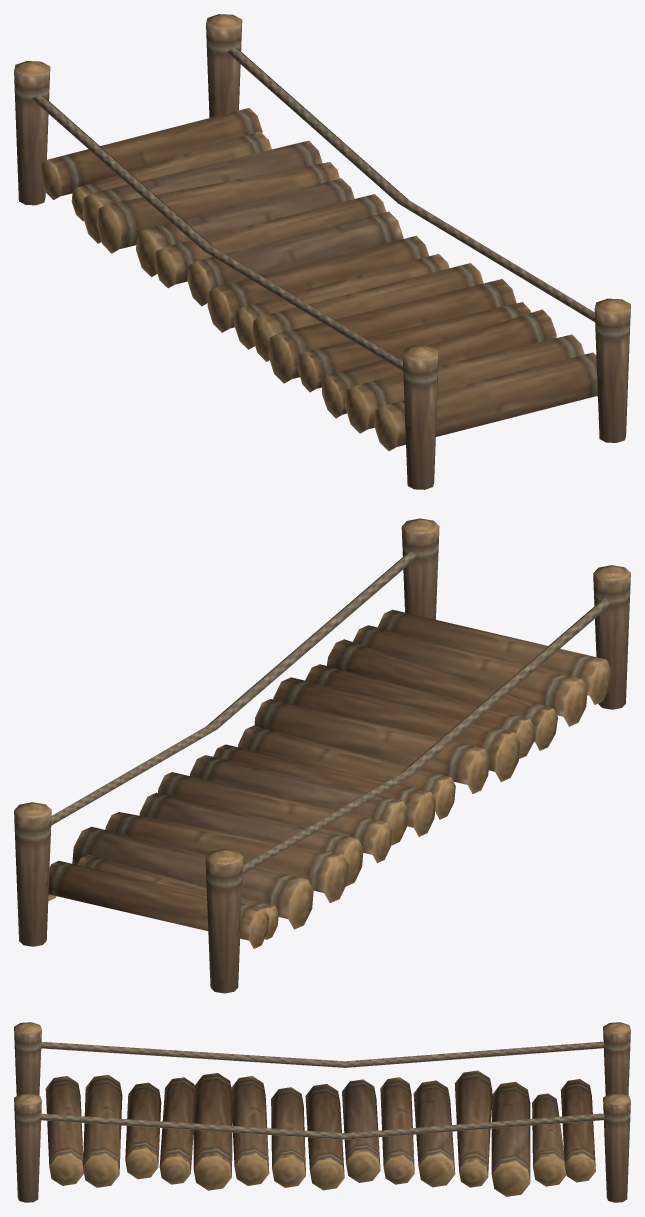
Rendered from bridge_3.FBX.
3 views of the same model, one above another, from view 1: azimuth 30°, elevation 25°; view 2: azimuth 150°, elevation 25°; view 3: azimuth 270°, elevation 25° (orthographic). The views are drawn at different scales.
Visible parts, largest first — view 1: polySurface77; view 2: polySurface77; view 3: polySurface77.
Boxes of the visible parts, bbox=[...] form: polySurface77: bbox=[14, 14, 630, 489]; polySurface77: bbox=[14, 518, 630, 993]; polySurface77: bbox=[14, 1022, 630, 1202].
Size of the model in its own units: 58.02 by 31.63 by 171.
